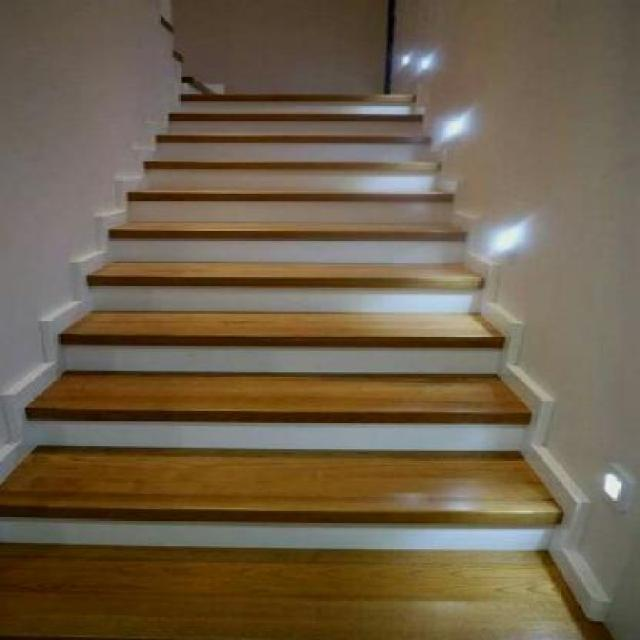stair: (1, 24, 638, 638)
